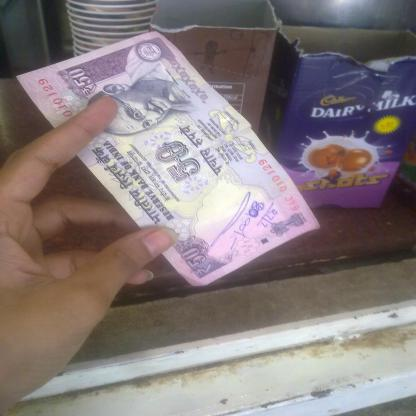Old50Front: (16, 32, 320, 286)
